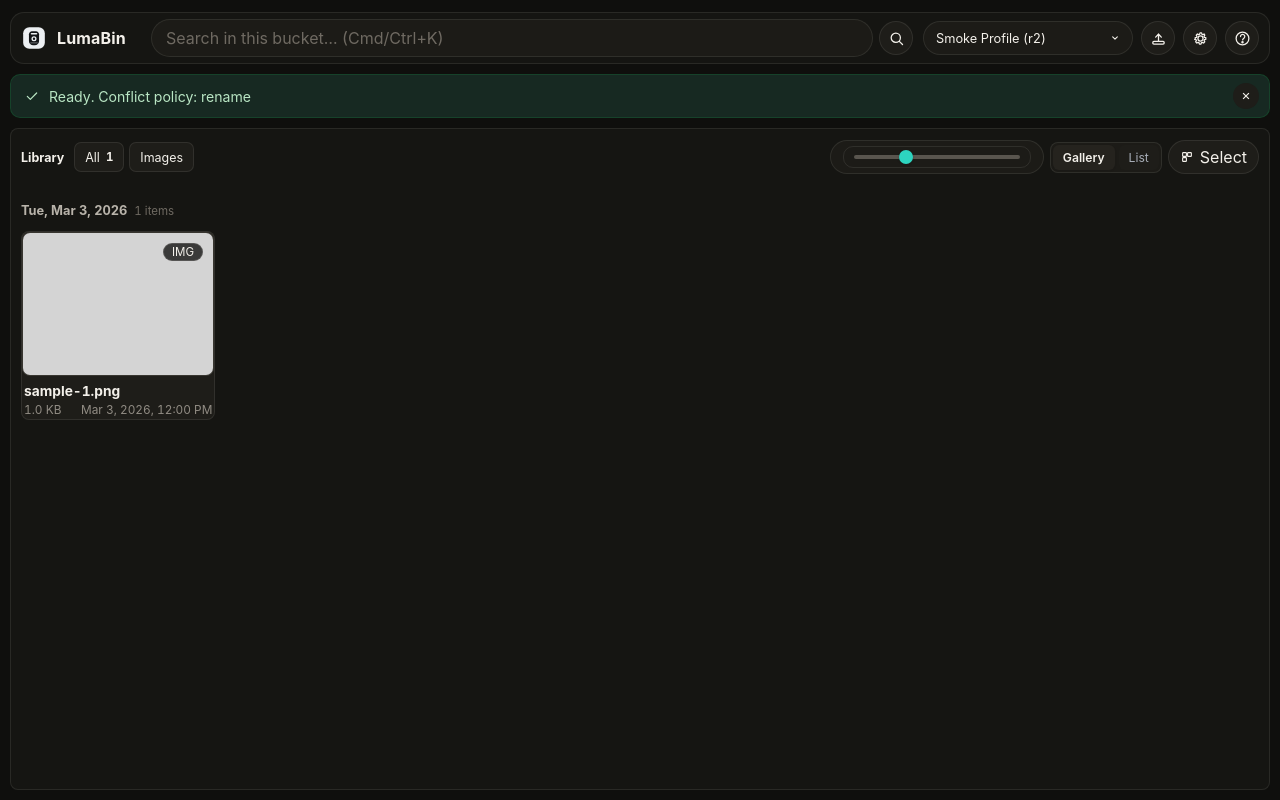
Test: App UI smoke › covers no-matches empty state recovery actions
Type "not-found-query" into the search field with placeholder "Search in this bucket… (Cmd/Ctrl+K)" at (512,38), box [151,19,873,57]
Then press Enter
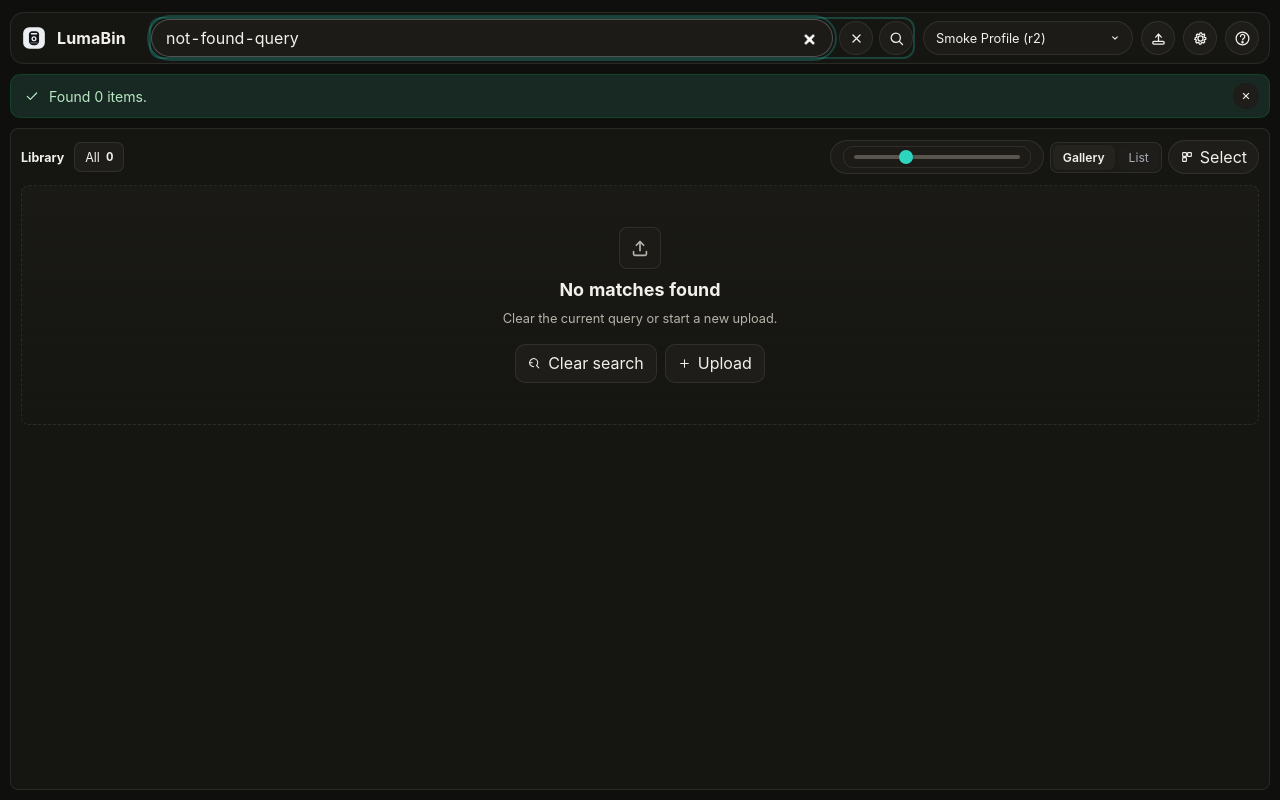
Click the button "Clear search" at (586,364), box [515,344,657,383]
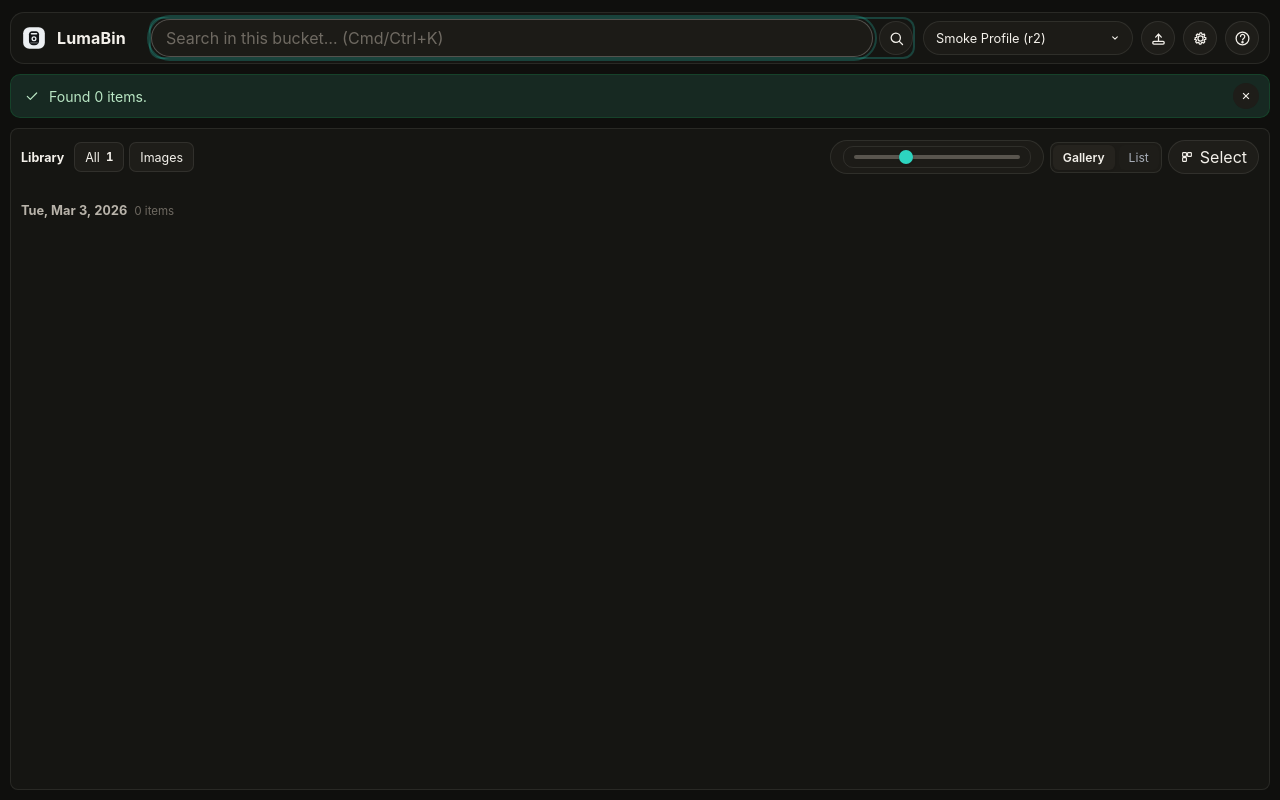
Expected: the button "All 1" is shown, [74,142,124,172]
Expected: the heading "No matches found" is gone
